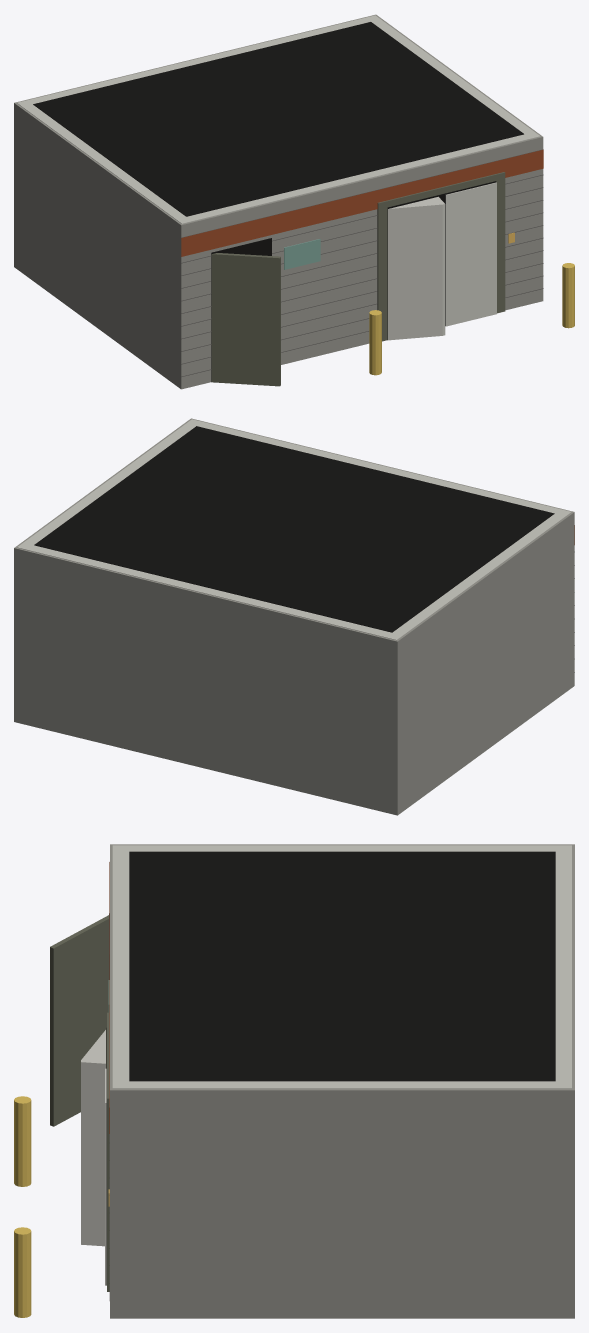
The model's file is garage_core.glb.
3 views of the same model, one above another, from view 1: azimuth 30°, elevation 25°; view 2: azimuth 150°, elevation 25°; view 3: azimuth 270°, elevation 25° (orthographic). The views are drawn at different scales.
Visible parts, largest first — view 1: garage_core_block, garage_core_black, garage_core_chrome, garage_core_steel, garage_core_cut, garage_core_rustp, garage_core_conc_d, garage_core_must, garage_core_teal; view 2: garage_core_block, garage_core_black, garage_core_cut; view 3: garage_core_block, garage_core_black, garage_core_cut, garage_core_steel, garage_core_chrome, garage_core_must.
Part boxes in pixels (x1,y1,x2,y2): garage_core_block: (14,14,543,389); garage_core_black: (33,22,523,381); garage_core_chrome: (388,182,496,340); garage_core_steel: (211,172,505,386); garage_core_cut: (17,15,540,223); garage_core_rustp: (181,149,543,256); garage_core_conc_d: (181,149,543,376); garage_core_must: (369,263,574,375); garage_core_teal: (284,239,320,269); garage_core_block: (14,418,574,815); garage_core_black: (34,426,554,632); garage_core_cut: (17,419,571,640); garage_core_block: (110,844,574,1318); garage_core_black: (106,851,555,1285); garage_core_cut: (112,845,571,1088); garage_core_steel: (50,915,109,1291); garage_core_chrome: (81,1030,106,1285); garage_core_must: (14,1096,31,1317).
Size of the model in its own units: 6 by 2.61 by 5.79.
